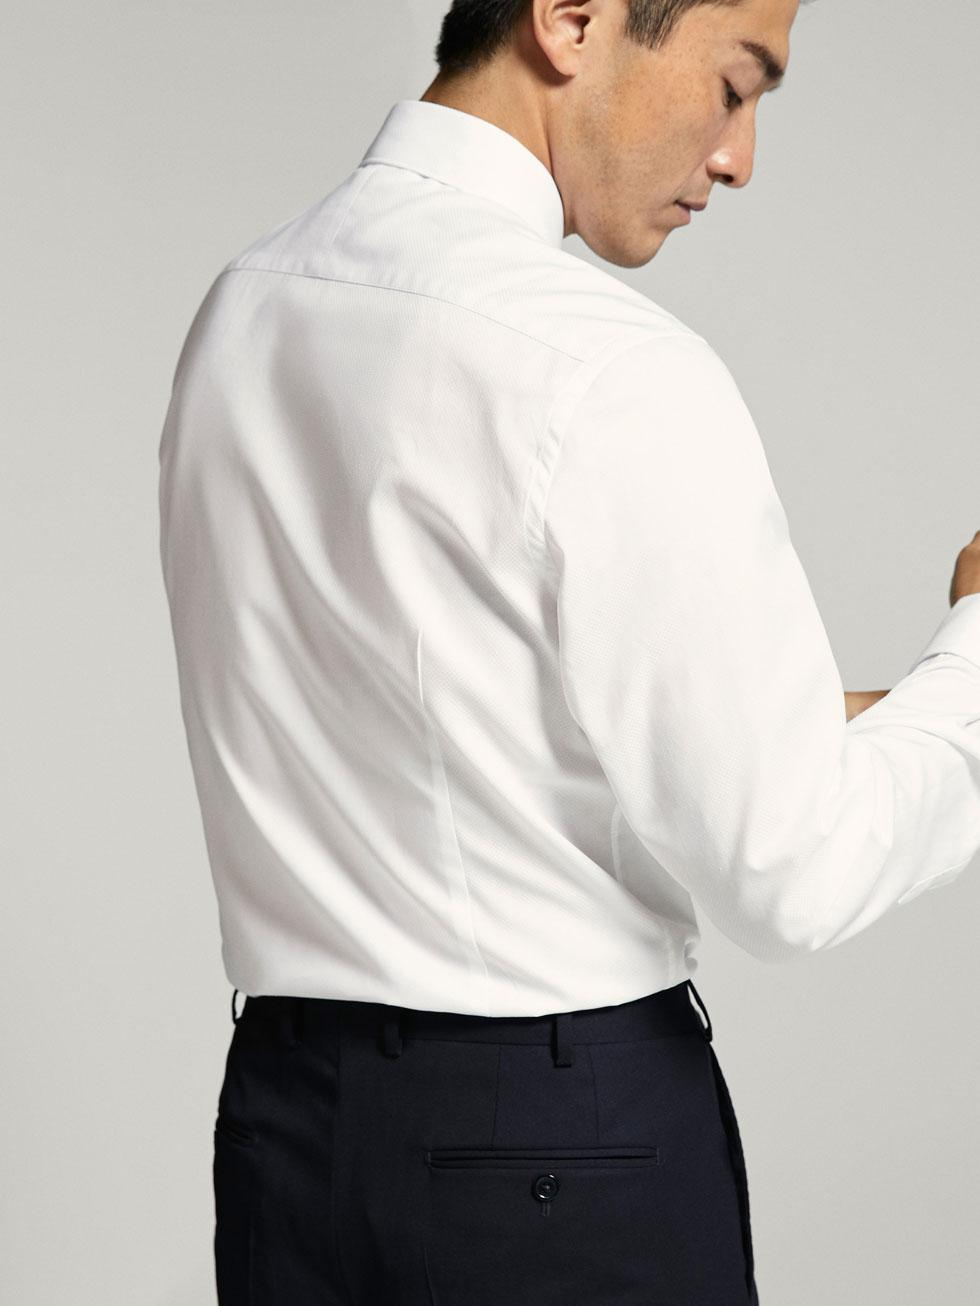teeshirt: (141, 97, 980, 1067)
